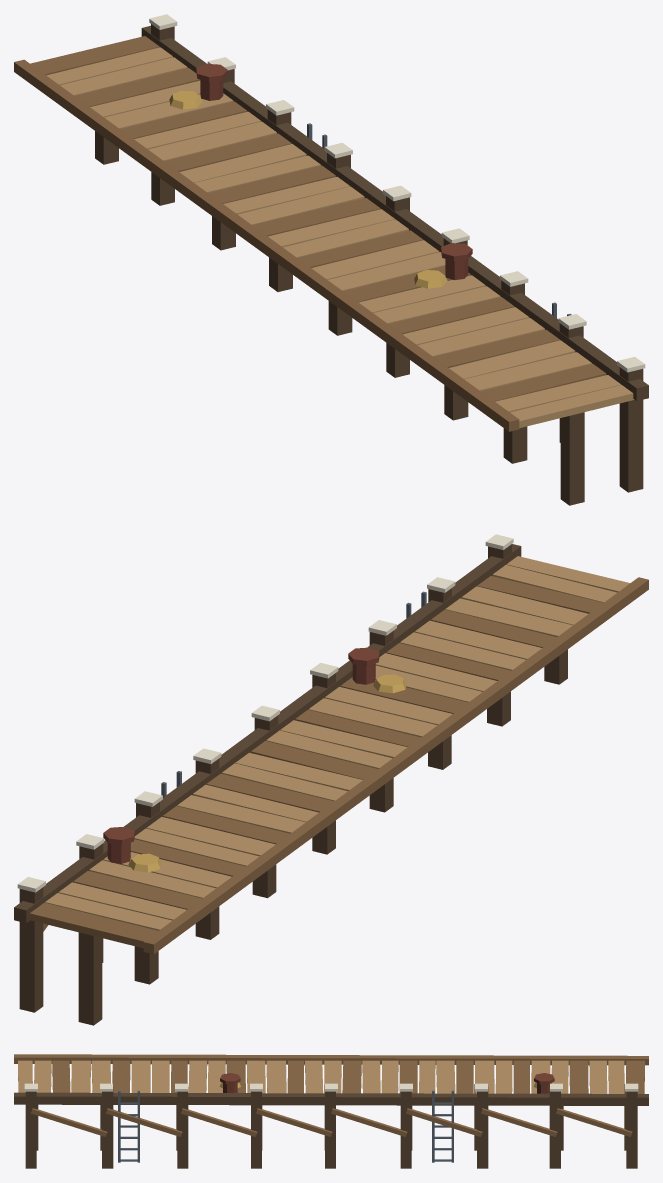
Rendered from quay-deck.glb.
3 renders of one model, top to bottom at view 1: azimuth 30°, elevation 25°; view 2: azimuth 150°, elevation 25°; view 3: azimuth 270°, elevation 25°, orthographic. The views are drawn at different scales.
Parts seen in each view (by area): view 1: quay-deck; view 2: quay-deck; view 3: quay-deck.
Boxes of the visible parts, bbox=[...] form: quay-deck: bbox=[14, 14, 648, 505]; quay-deck: bbox=[14, 534, 648, 1025]; quay-deck: bbox=[14, 1054, 648, 1168].
Size of the model in its own units: 3.12 by 2.62 by 18.2.
Materials: 1 (1 with a texture image).
